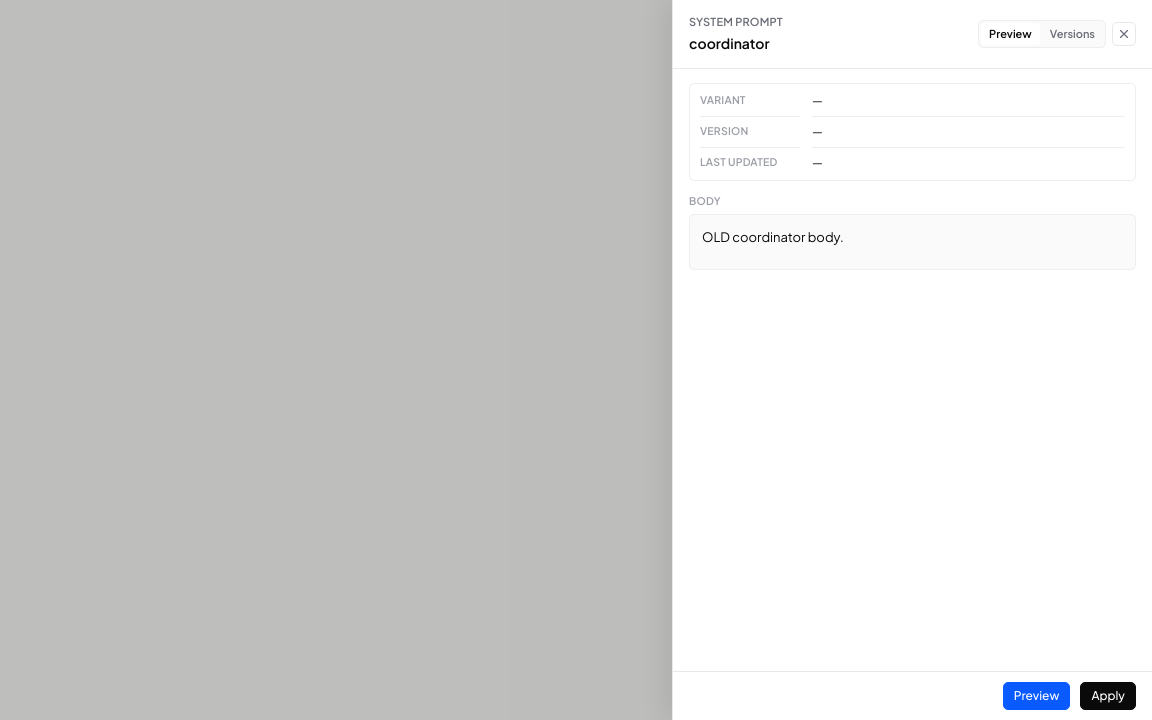
Test: ArtifactDrawer — D3 Preview/Apply › Preview payload "text" (system_prompt) overlays into the diff view
Click the button with aria-label "Preview change".
click(1037, 696)  # box x1=1003 y1=682 x2=1070 y2=710
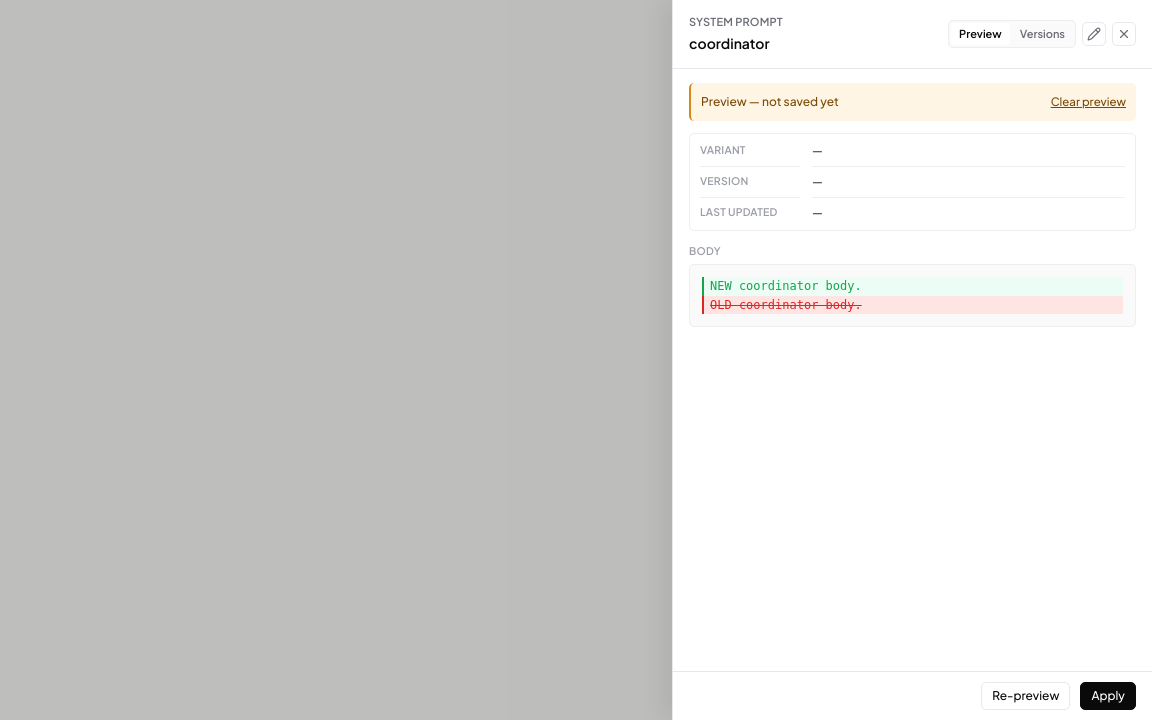
Expected: the message "Preview — not saved yet Clear preview" is shown, x1=689 y1=82 x2=1136 y2=120
Expected: the text "NEW coordinator body." is shown, x1=702 y1=277 x2=1123 y2=296
